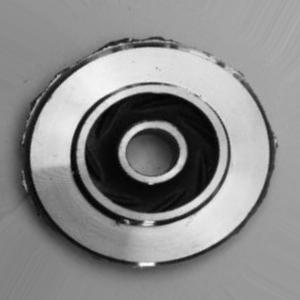casting_with_burr: (16, 35, 280, 266)
scratch: (112, 208, 163, 234), (130, 250, 167, 278)
